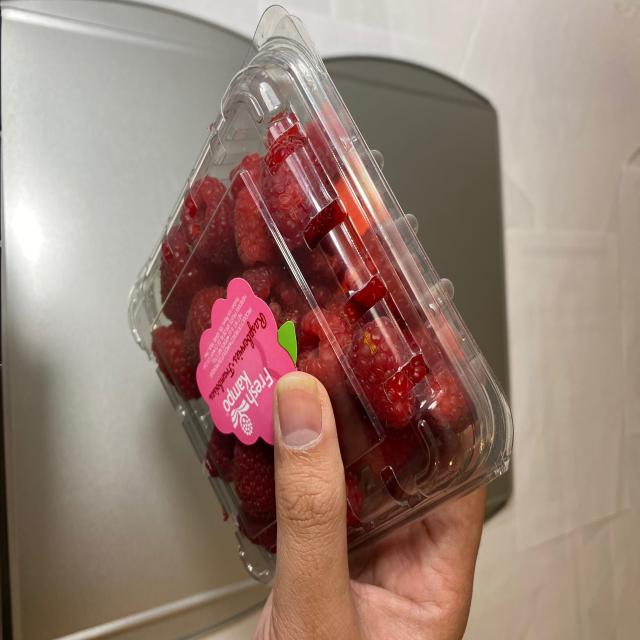raspberries: (157, 96, 477, 522)
